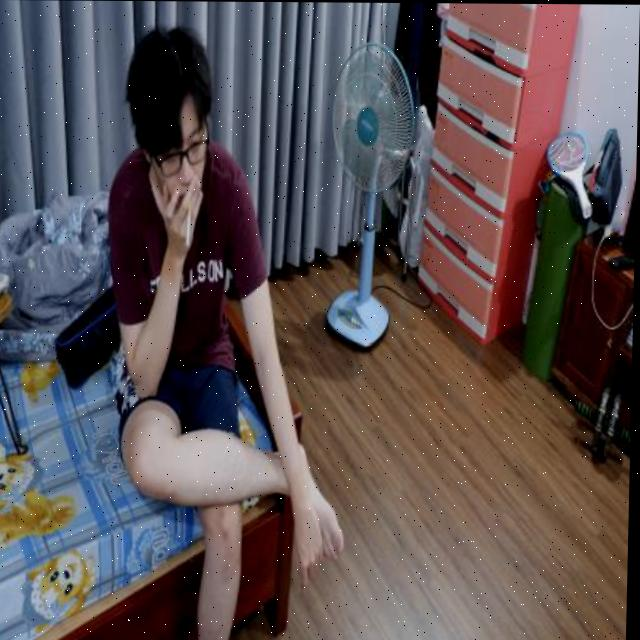cigarette: (185, 199, 195, 252)
